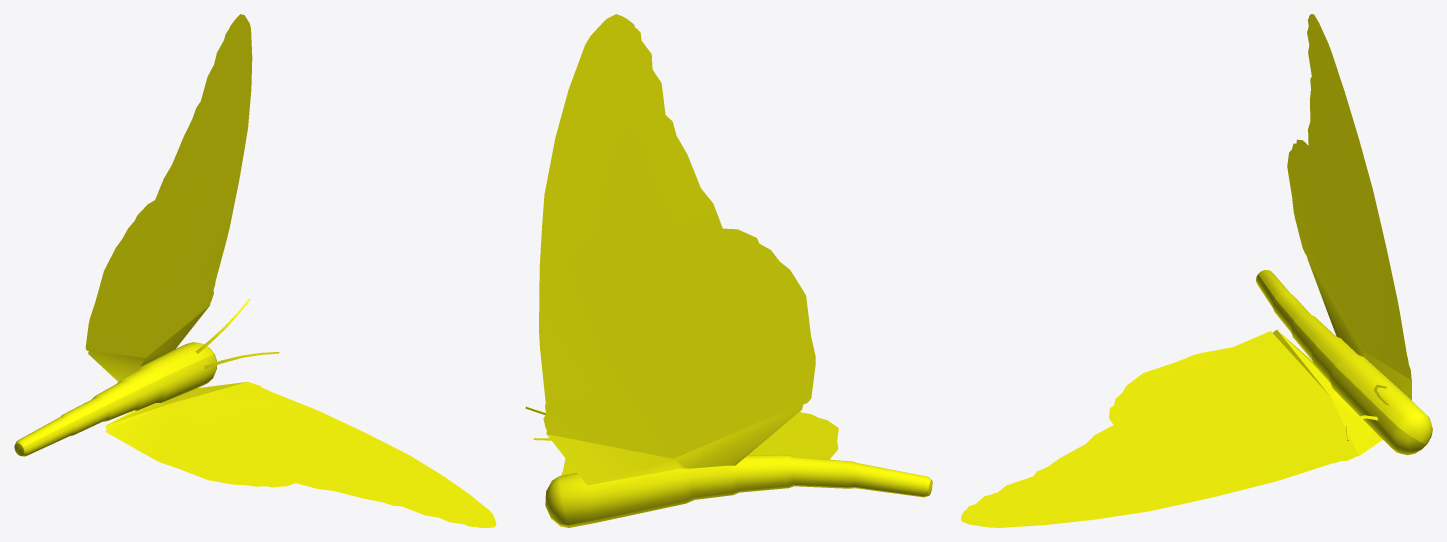
Rendered from soloButterfly.glb.
3 renders of one model, left to right at view 1: azimuth 30°, elevation 25°; view 2: azimuth 150°, elevation 25°; view 3: azimuth 270°, elevation 25°, orthographic. The views are drawn at different scales.
Parts seen in each view (by area): view 1: Curve.001; view 2: Curve.001; view 3: Curve.001.
Boxes of the visible parts, x1,y1,x2,y2 form: Curve.001: (14,14,496,527); Curve.001: (525,14,932,527); Curve.001: (961,14,1432,527).
Size of the model in its own units: 1.47 by 1.67 by 1.56.
